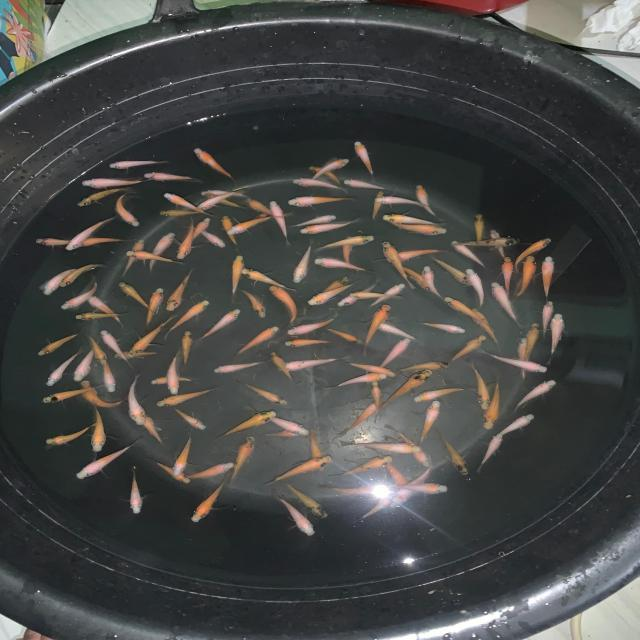nila: (75, 440, 141, 481), (262, 453, 334, 486), (270, 490, 319, 538), (389, 463, 437, 510), (127, 315, 177, 359), (380, 368, 432, 409), (248, 406, 311, 438), (390, 424, 434, 469), (285, 479, 331, 522), (65, 216, 115, 254), (165, 298, 212, 338), (361, 302, 395, 356), (482, 350, 549, 376), (220, 409, 278, 439), (380, 241, 416, 289), (340, 398, 383, 438), (44, 346, 84, 389), (188, 480, 227, 524), (192, 146, 240, 181), (96, 329, 138, 369), (239, 266, 300, 293), (234, 326, 282, 358), (491, 282, 524, 328), (302, 280, 360, 306), (34, 328, 84, 358), (58, 279, 102, 313), (40, 382, 104, 405), (514, 378, 558, 411), (513, 237, 552, 274), (430, 256, 478, 286), (341, 439, 424, 456), (322, 372, 386, 394), (86, 293, 125, 329), (116, 280, 156, 315), (444, 295, 489, 326), (73, 184, 131, 208), (333, 454, 393, 477), (482, 377, 508, 430), (236, 380, 289, 406), (144, 232, 175, 276), (228, 434, 254, 486), (57, 262, 109, 288), (348, 497, 393, 527), (438, 434, 470, 476), (276, 355, 346, 374), (472, 308, 502, 352), (202, 308, 242, 341), (164, 270, 194, 314), (284, 313, 338, 337), (41, 424, 95, 448), (76, 381, 124, 408), (267, 284, 299, 324), (42, 266, 82, 298), (336, 280, 378, 310), (148, 456, 193, 484), (417, 400, 443, 448), (468, 362, 494, 410), (164, 191, 212, 217), (379, 454, 412, 491), (516, 322, 540, 372), (448, 239, 488, 269), (414, 182, 444, 222), (154, 388, 214, 408), (224, 254, 248, 304), (291, 240, 317, 286), (314, 234, 376, 253), (125, 373, 147, 426), (376, 338, 410, 372), (197, 188, 245, 212), (478, 433, 506, 474), (495, 412, 536, 440), (366, 282, 407, 310), (244, 196, 301, 216), (372, 320, 421, 343), (169, 434, 194, 478), (379, 246, 447, 262), (401, 266, 437, 296), (388, 218, 448, 236), (422, 264, 450, 302), (227, 217, 280, 237), (514, 254, 538, 298), (448, 333, 484, 362), (410, 385, 467, 403), (381, 213, 449, 228), (267, 350, 297, 384), (300, 218, 360, 235), (463, 266, 487, 308), (315, 257, 374, 274), (212, 359, 271, 376), (178, 462, 240, 478), (86, 409, 108, 454), (115, 191, 141, 229), (144, 286, 166, 330), (288, 176, 348, 192), (272, 198, 292, 246), (188, 226, 228, 250), (419, 317, 469, 336), (353, 140, 378, 178), (98, 352, 120, 395), (140, 412, 167, 447), (140, 171, 207, 185), (312, 158, 351, 182), (120, 239, 144, 278), (174, 218, 196, 260), (80, 178, 156, 190), (72, 347, 96, 385), (546, 312, 564, 362), (319, 482, 382, 496), (307, 428, 327, 472), (173, 407, 208, 432), (82, 334, 109, 366), (165, 348, 183, 395), (124, 251, 184, 265), (384, 482, 453, 494), (308, 164, 344, 187), (317, 274, 350, 299), (340, 232, 360, 272), (456, 236, 522, 248), (372, 196, 428, 210), (128, 468, 144, 517), (242, 290, 268, 320), (222, 214, 244, 248), (347, 290, 409, 302), (287, 196, 354, 207), (344, 362, 396, 376), (368, 382, 384, 427), (290, 214, 338, 229), (203, 193, 248, 209), (108, 158, 168, 170), (72, 309, 126, 322), (400, 360, 450, 374), (540, 254, 554, 304), (517, 337, 532, 382), (340, 178, 388, 192), (198, 188, 255, 199), (540, 299, 556, 338), (326, 328, 360, 346), (111, 348, 159, 360), (187, 217, 211, 240), (488, 228, 506, 258), (72, 238, 126, 248), (501, 254, 514, 294), (283, 338, 334, 348), (157, 208, 208, 218), (371, 189, 386, 221), (472, 212, 486, 245), (180, 330, 193, 364), (150, 377, 198, 386), (37, 236, 71, 247), (259, 429, 310, 436), (253, 209, 276, 222)
